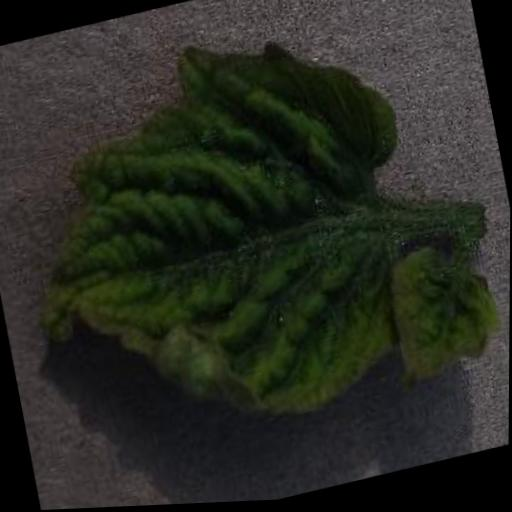Yellow Leaf Curl Virus: (2, 0, 508, 470)
